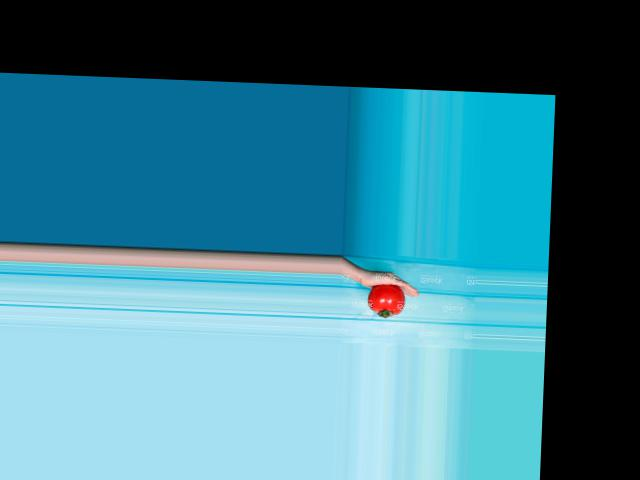tomato: (368, 283, 406, 317)
